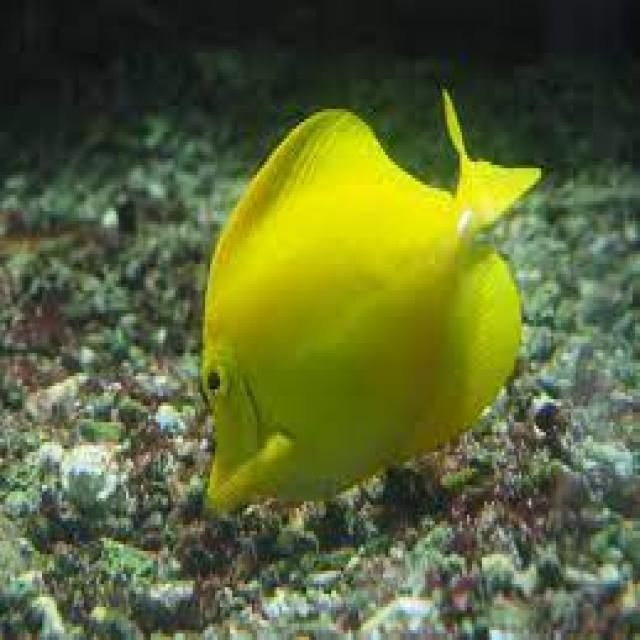YellowTang: (163, 72, 552, 553)
